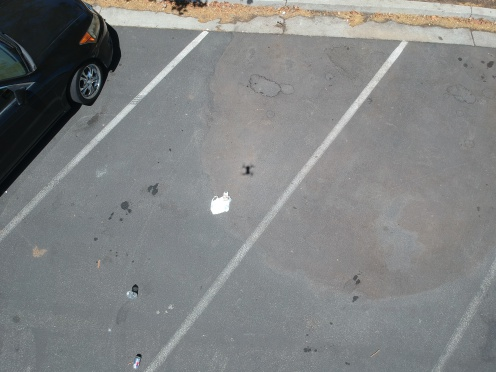bottle: (120, 289, 142, 303)
can: (130, 353, 144, 371)
plastic bag: (208, 187, 236, 218)
